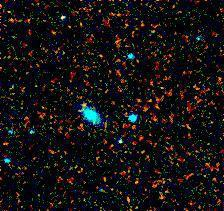star: (72, 86, 102, 116)
